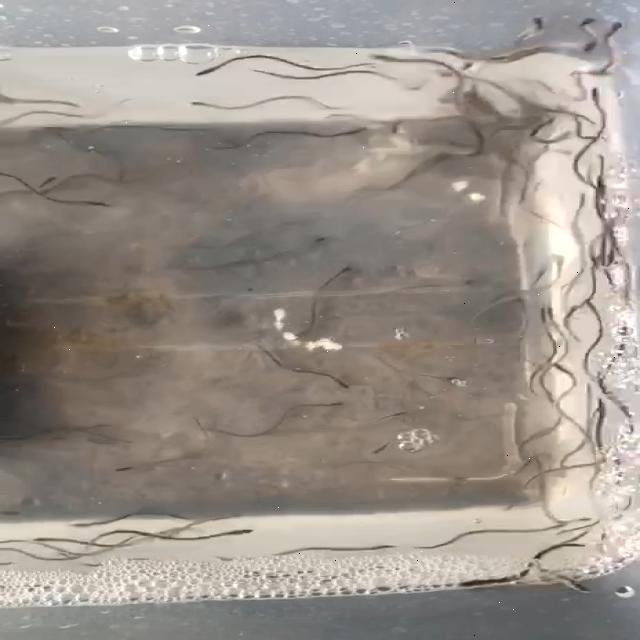inactive_glass_eel: (510, 12, 566, 36), (542, 13, 602, 33), (68, 191, 104, 220), (302, 227, 342, 252), (316, 376, 354, 400), (451, 576, 495, 596), (224, 523, 262, 546), (362, 436, 398, 460), (586, 18, 628, 38), (435, 366, 472, 388), (56, 517, 99, 535), (32, 173, 70, 193), (98, 462, 138, 481), (170, 98, 222, 112), (578, 395, 611, 417), (562, 579, 600, 598), (522, 303, 552, 327), (190, 62, 222, 84), (366, 408, 404, 426), (328, 260, 366, 278), (316, 398, 348, 418), (24, 534, 64, 550), (577, 86, 613, 102), (362, 51, 398, 66), (562, 44, 598, 58), (545, 358, 569, 377), (539, 304, 559, 322)
